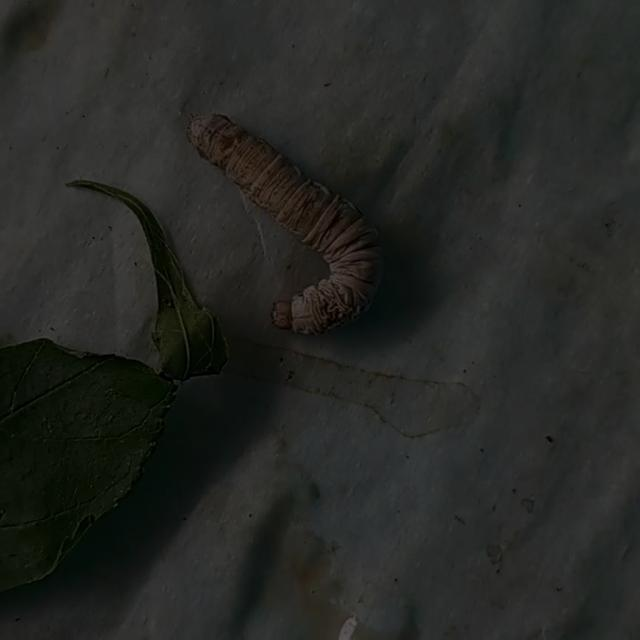Grasserie: (163, 90, 434, 370)
